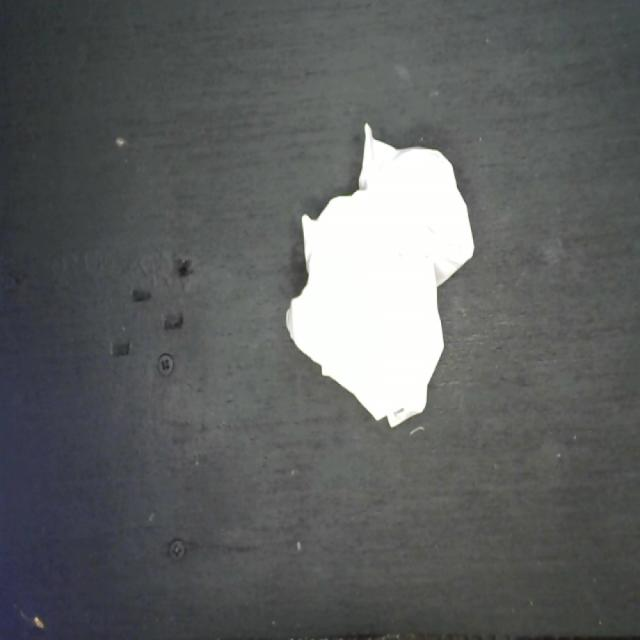biodegradable: (282, 121, 478, 432)
